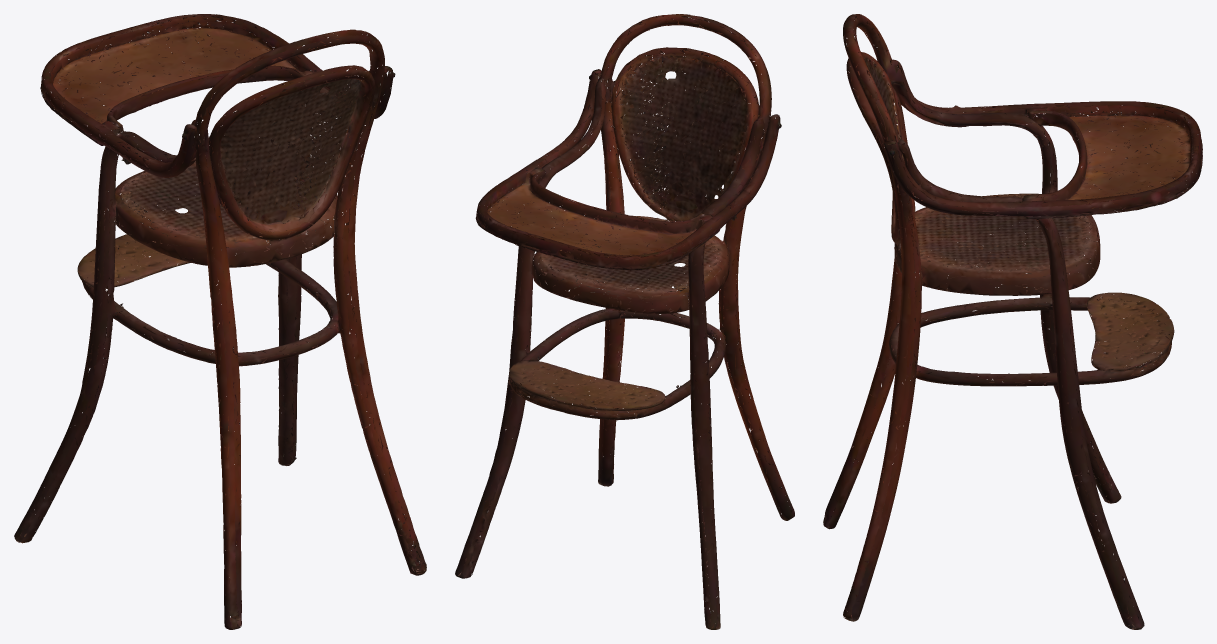
Rendered from bentwood-high-chair.glb.
The picture shows the model from 3 angles, left to right: view 1: azimuth 30°, elevation 25°; view 2: azimuth 150°, elevation 25°; view 3: azimuth 270°, elevation 25°; orthographic projection. The views are drawn at different scales.
Parts seen in each view (by area): view 1: Object_2; view 2: Object_2; view 3: Object_2.
Boxes of the visible parts, x1,y1,x2,y2 form: Object_2: [14, 14, 426, 629]; Object_2: [455, 14, 794, 629]; Object_2: [823, 14, 1202, 629].
Size of the model in its own units: 525 by 970 by 616.
1 material, 1 textured.
